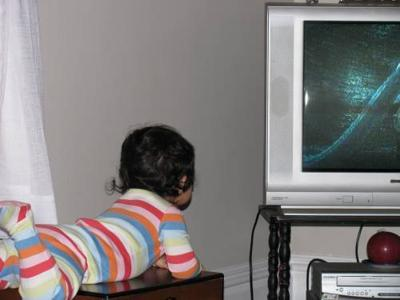person: (2, 126, 204, 300)
